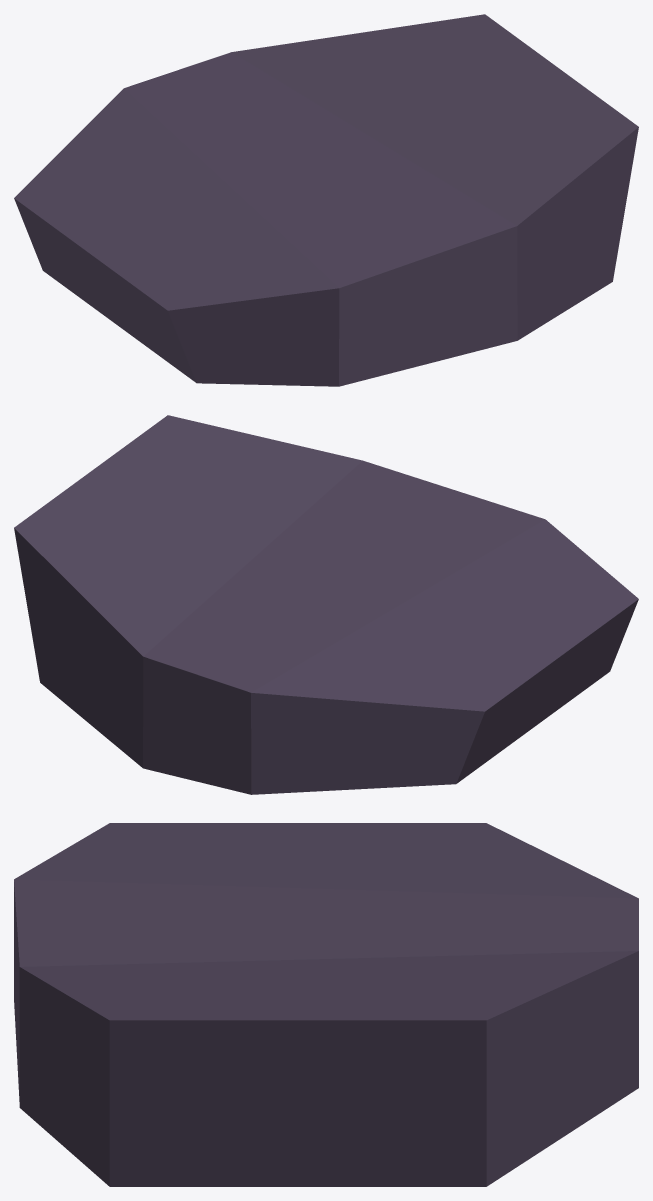
The model's file is SM_rock_small_04.fbx.
3 renders of one model, top to bottom at view 1: azimuth 30°, elevation 25°; view 2: azimuth 150°, elevation 25°; view 3: azimuth 270°, elevation 25°, orthographic. The views are drawn at different scales.
Visible parts, largest first — view 1: rock_small_04; view 2: rock_small_04; view 3: rock_small_04.
Boxes of the visible parts, <box> form: rock_small_04: <box>14,14,638,386</box>; rock_small_04: <box>14,415,638,794</box>; rock_small_04: <box>14,823,638,1186</box>.
Size of the model in its own units: 52.38 by 15.78 by 49.12.
